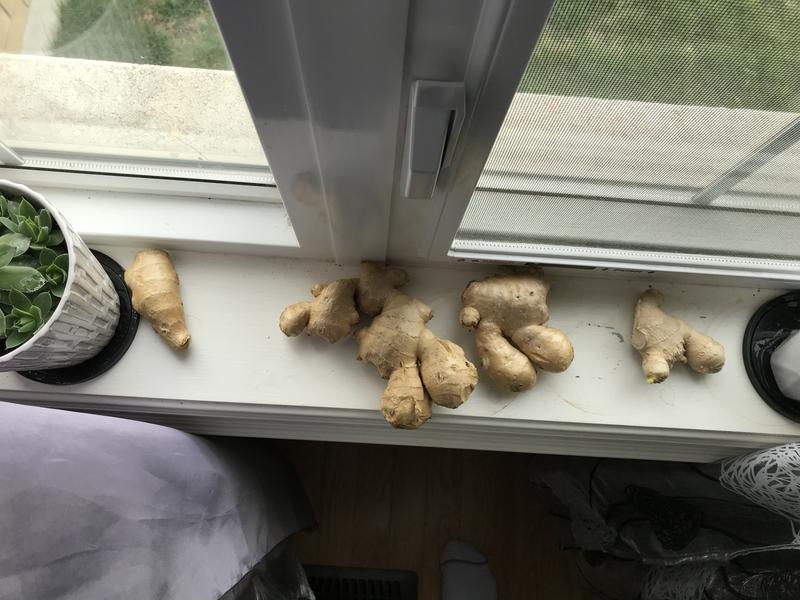ginger: (278, 249, 482, 437), (457, 263, 582, 404), (622, 278, 734, 397), (116, 240, 210, 370)
